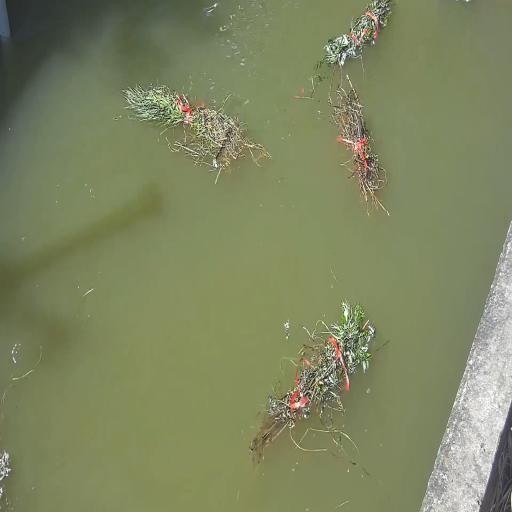twig: (250, 302, 374, 463), (121, 77, 271, 183), (331, 76, 389, 215), (321, 0, 392, 67), (0, 451, 10, 482)
